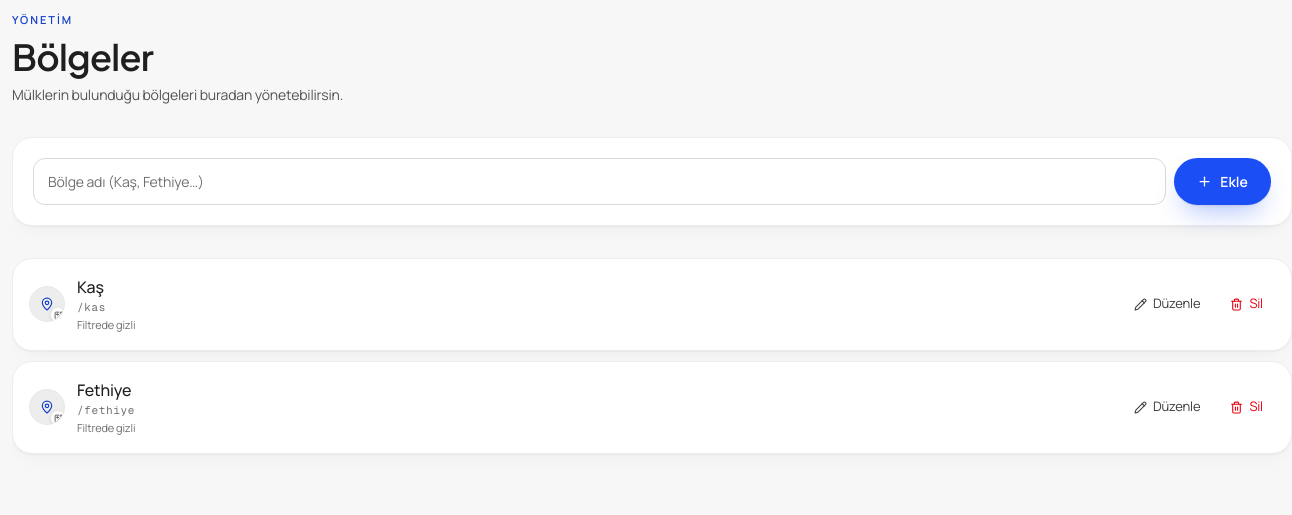
Test: LocationsPage — bölge adları çevrilmez (Phase 10I) › 3) inline düzenlemede de çeviri ögesi belirmez
This screenshot has width=1292, height=515.
Expected: the text "Kaş" is shown, [77,276,104,298]
Click the button "Düzenle" in the row of "kas": click(1167, 304) [1122,288,1212,320]
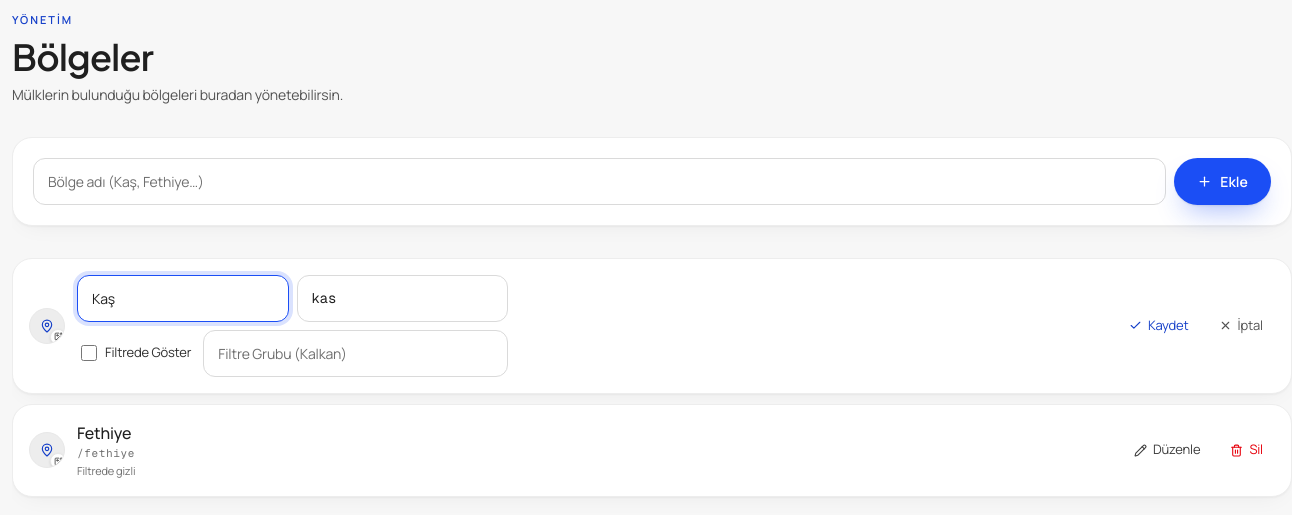
Result: the button "Kaydet" is shown at [1117,310,1201,341]
